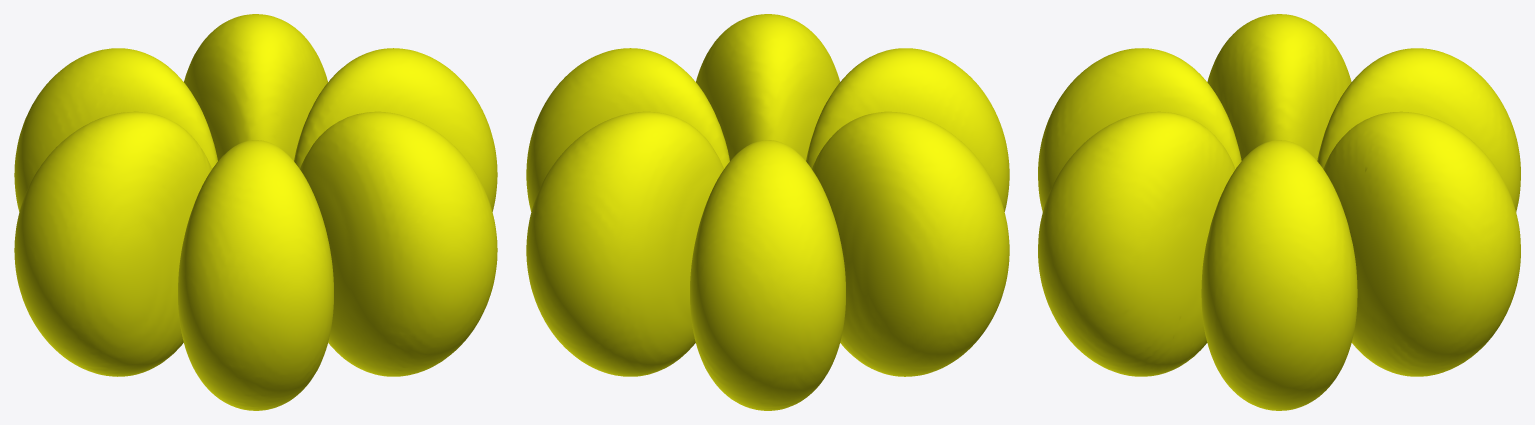
File: fy(3x2-y2) orbital.dae
3 views of the same model, side by side, from view 1: azimuth 30°, elevation 25°; view 2: azimuth 150°, elevation 25°; view 3: azimuth 270°, elevation 25° (orthographic).
Parts seen in each view (by area): view 1: fy(3x2−y2) - 2, fy(3x2−y2) - 1; view 2: fy(3x2−y2) - 2, fy(3x2−y2) - 1; view 3: fy(3x2−y2) - 2, fy(3x2−y2) - 1.
Part boxes in pixels (box(x1,y1,x2,y2)): fy(3x2−y2) - 2: box(14, 14, 497, 376); fy(3x2−y2) - 1: box(14, 48, 497, 410); fy(3x2−y2) - 2: box(526, 14, 1009, 376); fy(3x2−y2) - 1: box(526, 48, 1009, 410); fy(3x2−y2) - 2: box(1038, 14, 1520, 376); fy(3x2−y2) - 1: box(1038, 48, 1520, 410).
Size of the model in its own units: 69.66 by 63.38 by 36.8.
